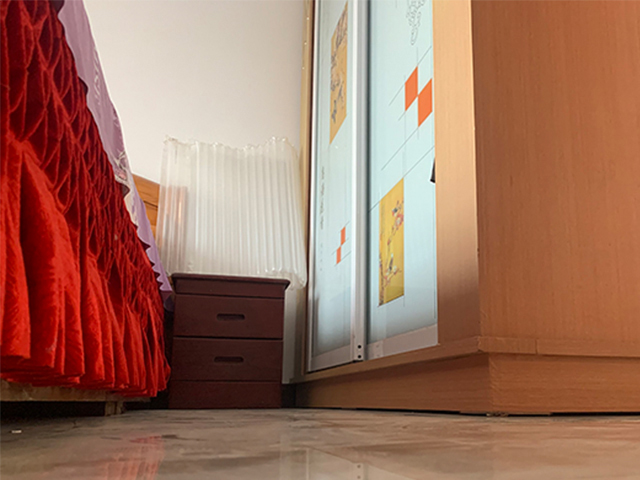bed: (1, 1, 171, 419)
cabinet: (298, 1, 640, 417), (164, 271, 291, 411)
